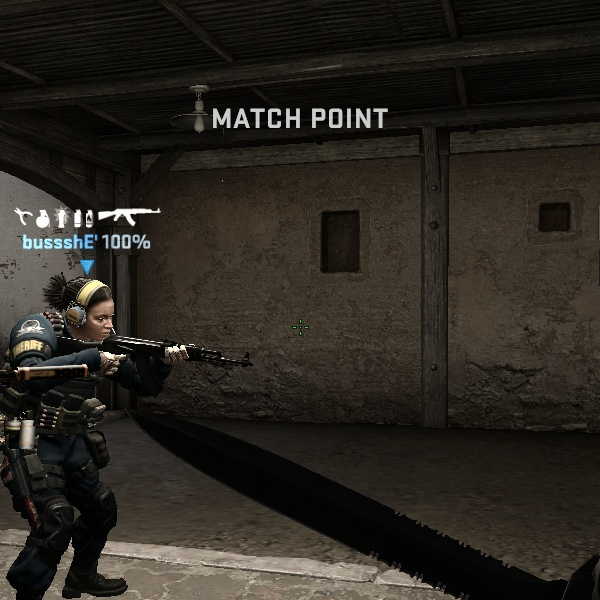ct_body: (1, 255, 184, 600)
ct_head: (42, 267, 137, 353)
